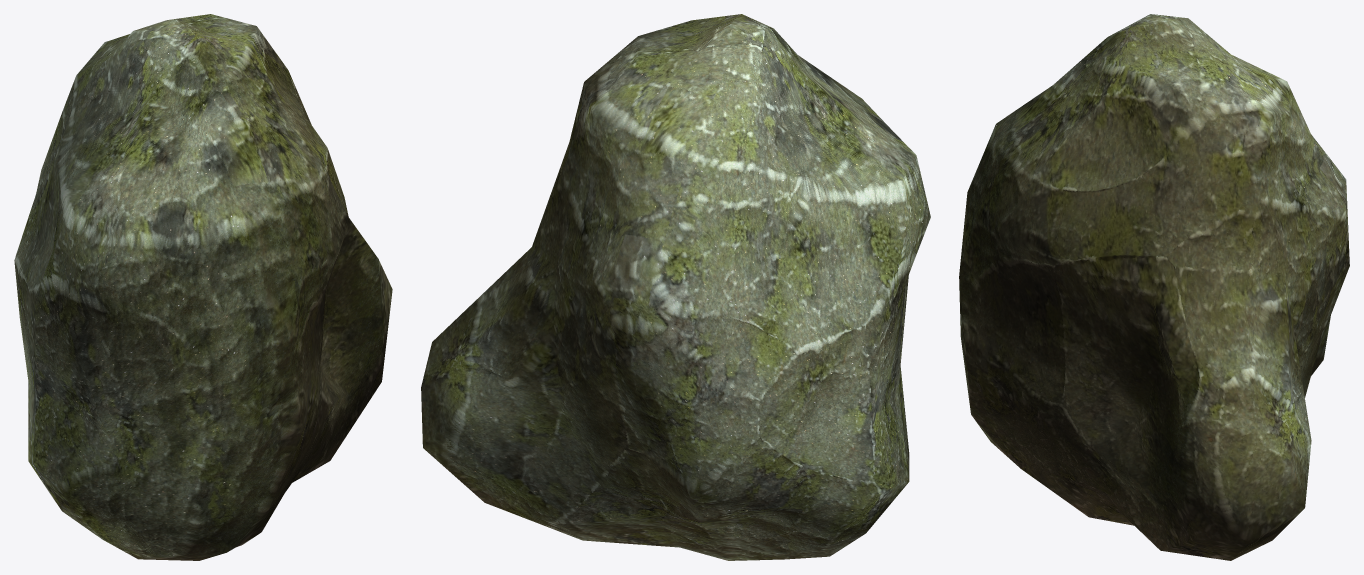
File: rock_2.fbx
3 views of the same model, side by side, from view 1: azimuth 30°, elevation 25°; view 2: azimuth 150°, elevation 25°; view 3: azimuth 270°, elevation 25° (orthographic). The views are drawn at different scales.
Parts seen in each view (by area): view 1: rock_2; view 2: rock_2; view 3: rock_2.
Part boxes in pixels (<box>): rock_2: <box>14,14,392,560</box>; rock_2: <box>421,14,930,560</box>; rock_2: <box>959,14,1349,560</box>.
Size of the model in its own units: 134 by 163 by 118.
